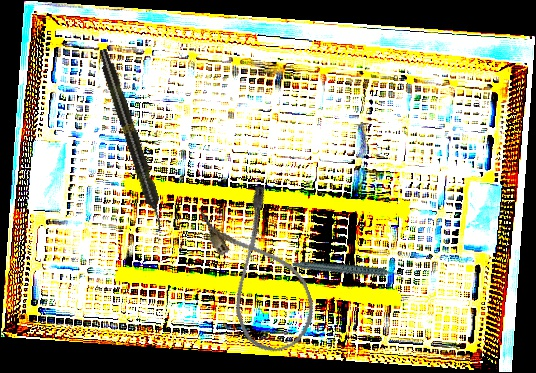Cannula: (196, 182, 326, 362)
Handpiece: (95, 47, 169, 233), (291, 238, 406, 303)
